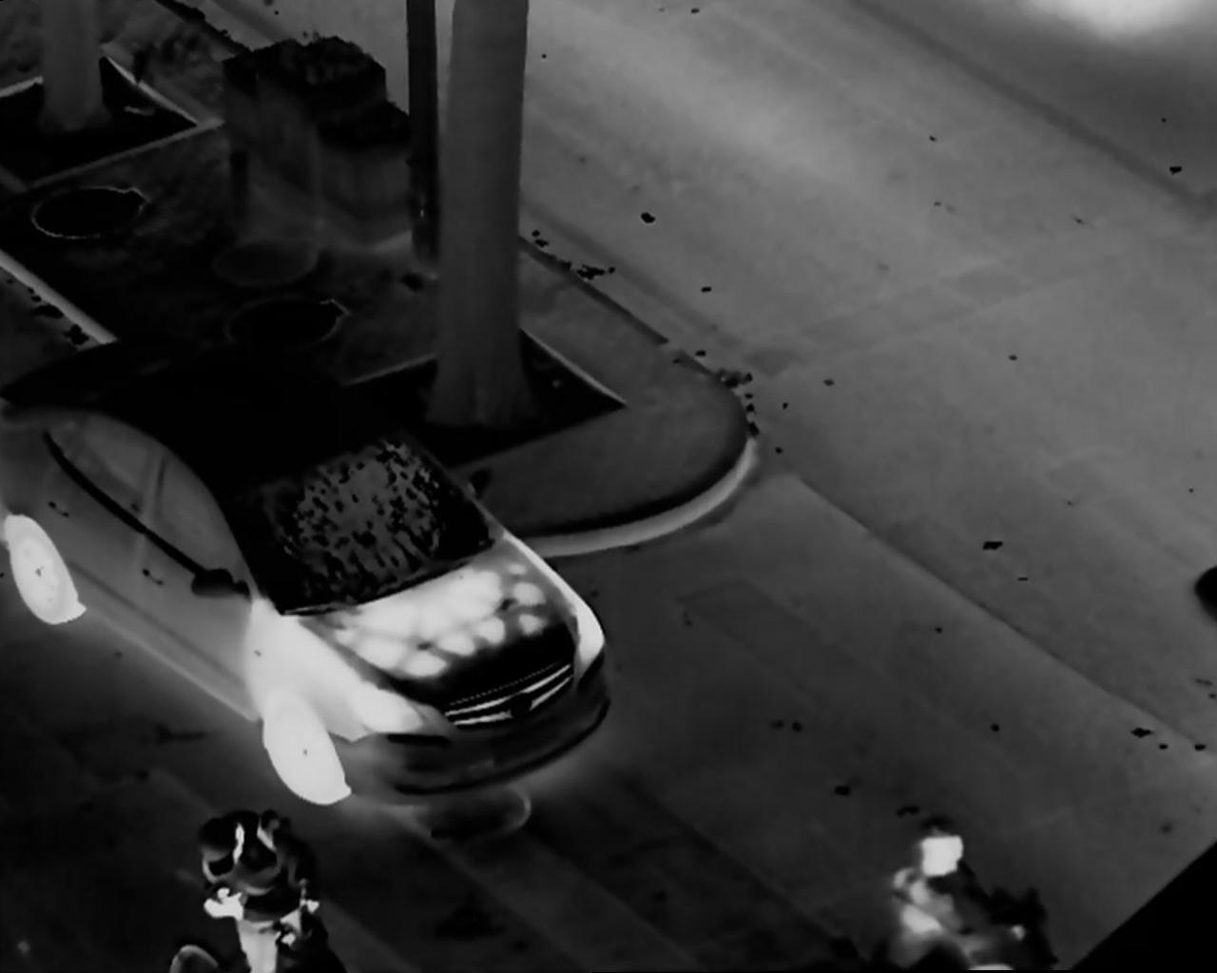person: (184, 803, 342, 969), (871, 827, 1044, 970)
